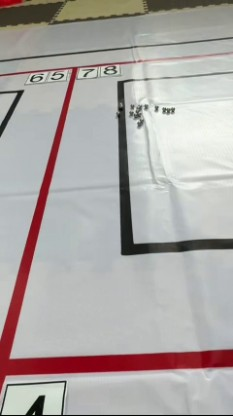ironball: (113, 106, 123, 117), (142, 101, 152, 111), (163, 103, 171, 112), (135, 101, 142, 110), (127, 109, 134, 118), (135, 111, 142, 120), (159, 101, 165, 111), (152, 103, 159, 111), (117, 100, 124, 107), (135, 110, 142, 117), (134, 119, 141, 126), (129, 101, 137, 107), (169, 105, 174, 112)
